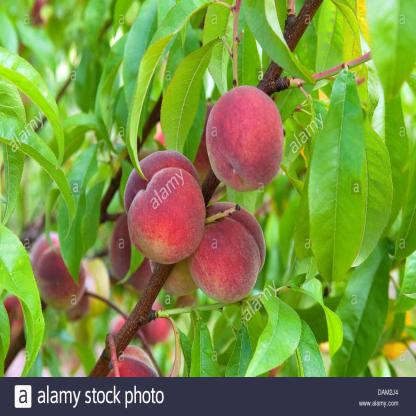peach leaf: (125, 2, 232, 182), (306, 65, 365, 300), (1, 108, 76, 240), (328, 241, 393, 374), (0, 46, 65, 163), (160, 39, 220, 159), (1, 224, 46, 377), (241, 283, 300, 375), (182, 319, 222, 375)
